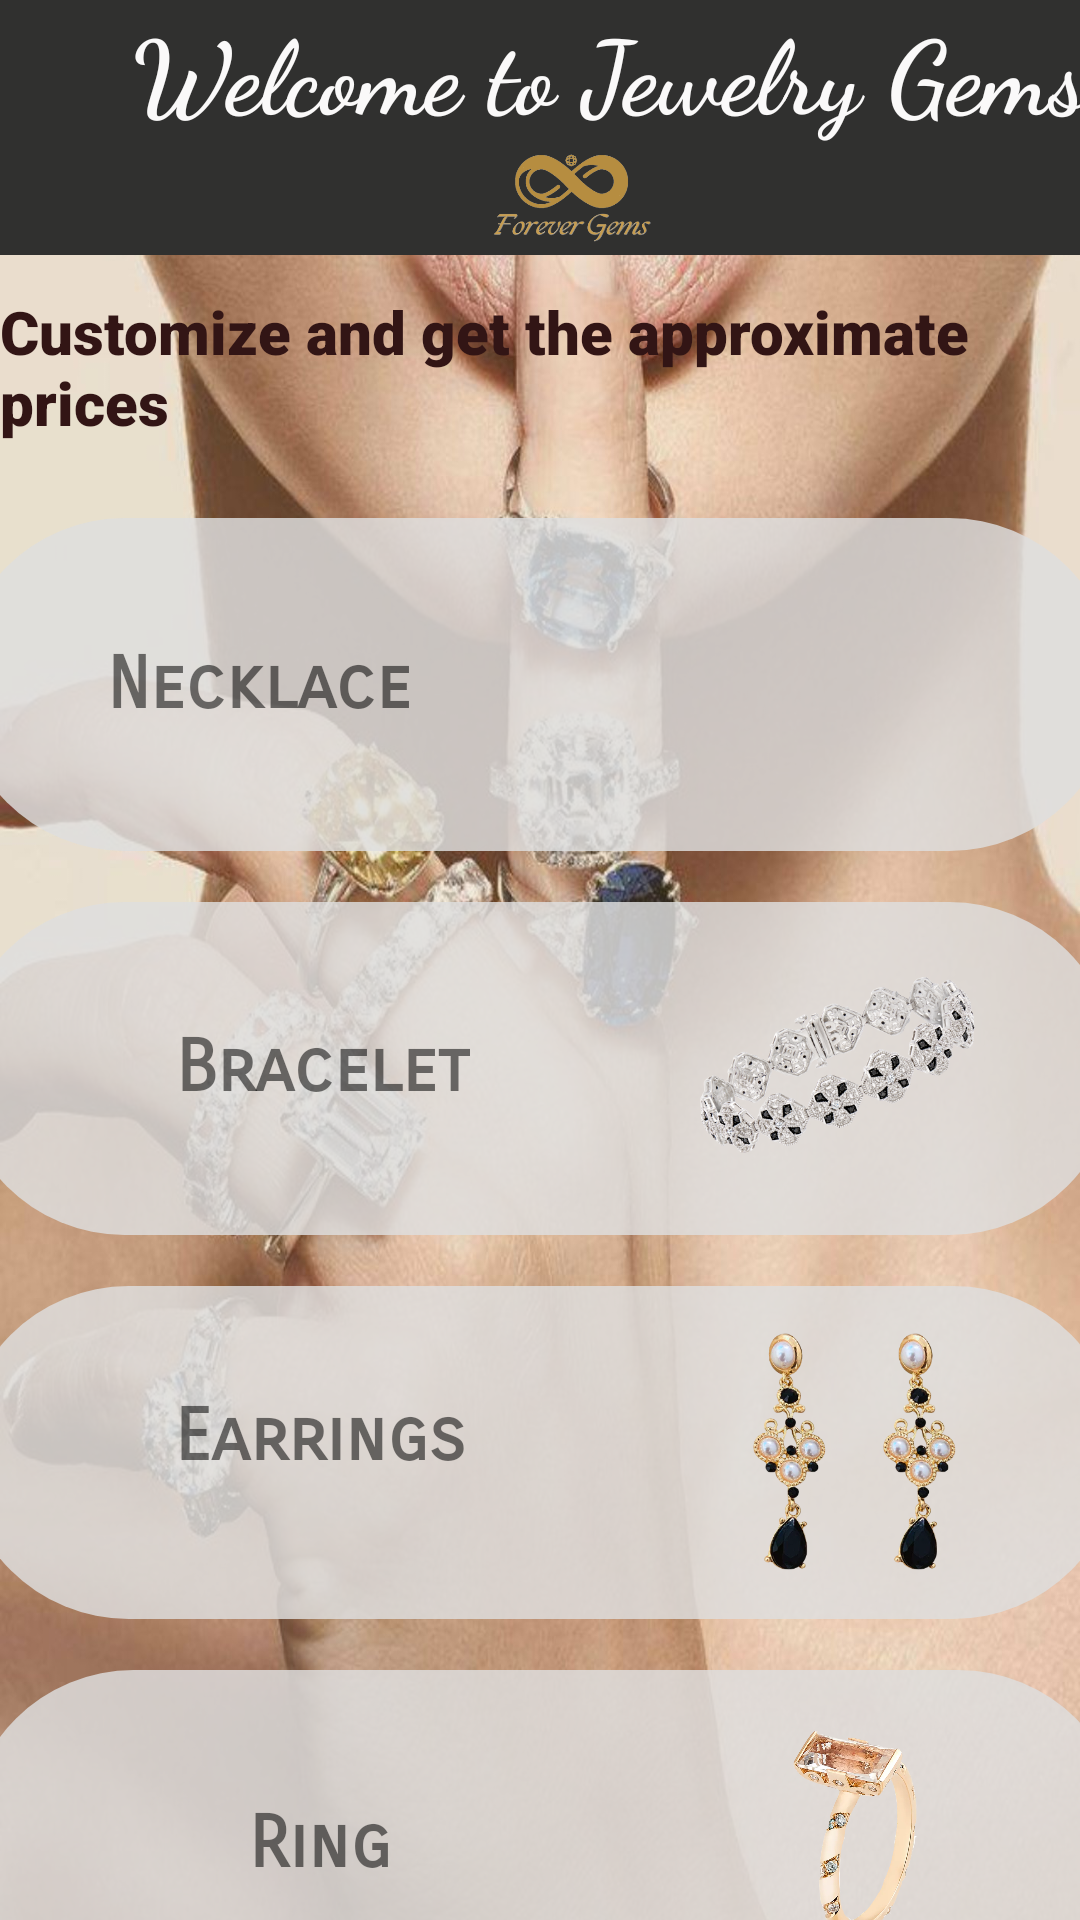

Point at icon controls on the screen. Image size 1080px×1920px, points as point (x, y).
bracelet: point (838, 1065)
earrings: point (854, 1451)
